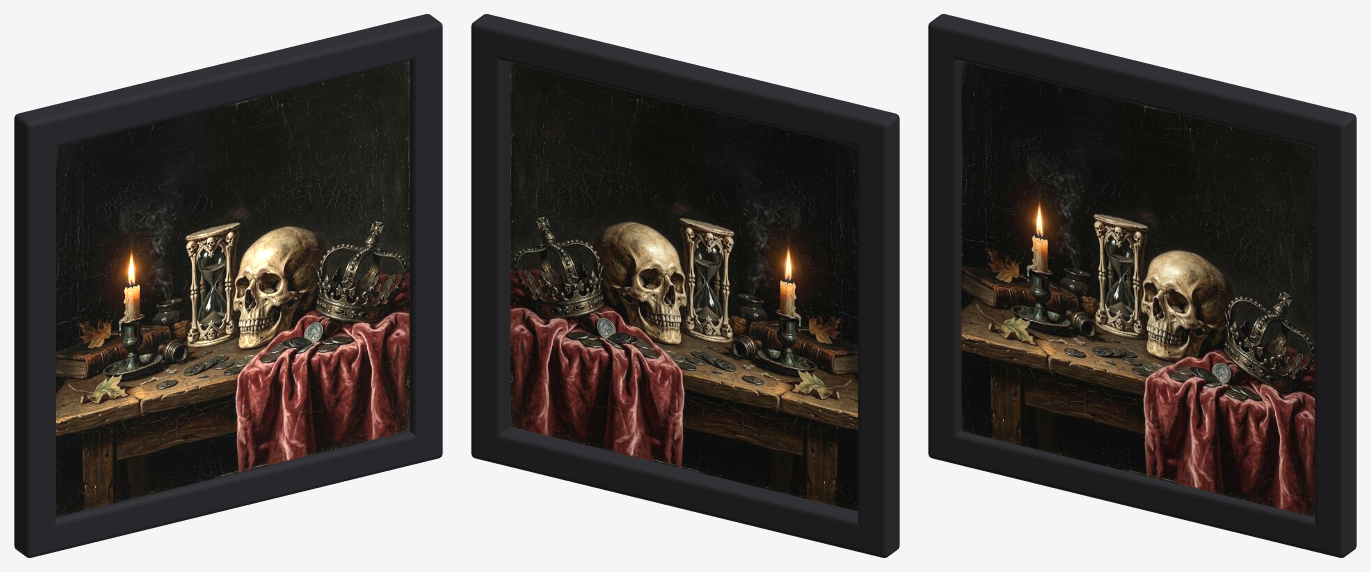
File: art_hourglass_vanitas.glb
The picture shows the model from 3 angles, left to right: view 1: azimuth 30°, elevation 25°; view 2: azimuth 150°, elevation 25°; view 3: azimuth 330°, elevation 25°; orthographic projection.
Visible parts, largest first — view 1: GD_art_hourglass_vanitas__m0, GD_art_hourglass_vanitas__m1; view 2: GD_art_hourglass_vanitas__m0, GD_art_hourglass_vanitas__m1; view 3: GD_art_hourglass_vanitas__m0, GD_art_hourglass_vanitas__m1.
Boxes of the visible parts, box(x1,y1,x2,y2) form: GD_art_hourglass_vanitas__m0: box(56, 61, 409, 517); GD_art_hourglass_vanitas__m1: box(14, 14, 442, 557); GD_art_hourglass_vanitas__m0: box(510, 62, 857, 511); GD_art_hourglass_vanitas__m1: box(471, 14, 899, 557); GD_art_hourglass_vanitas__m0: box(961, 61, 1314, 517); GD_art_hourglass_vanitas__m1: box(928, 14, 1356, 557).
Size of the model in its own units: 0.96 by 0.96 by 0.06.
Materials: 2 (1 with a texture image).
